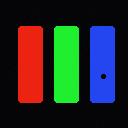0 point: (101, 74, 105, 78)
